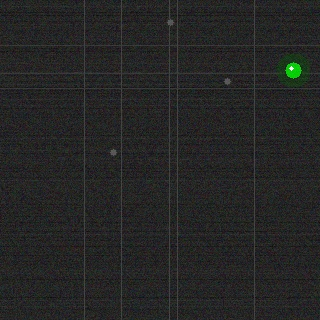green_normal: (283, 60, 303, 80)
